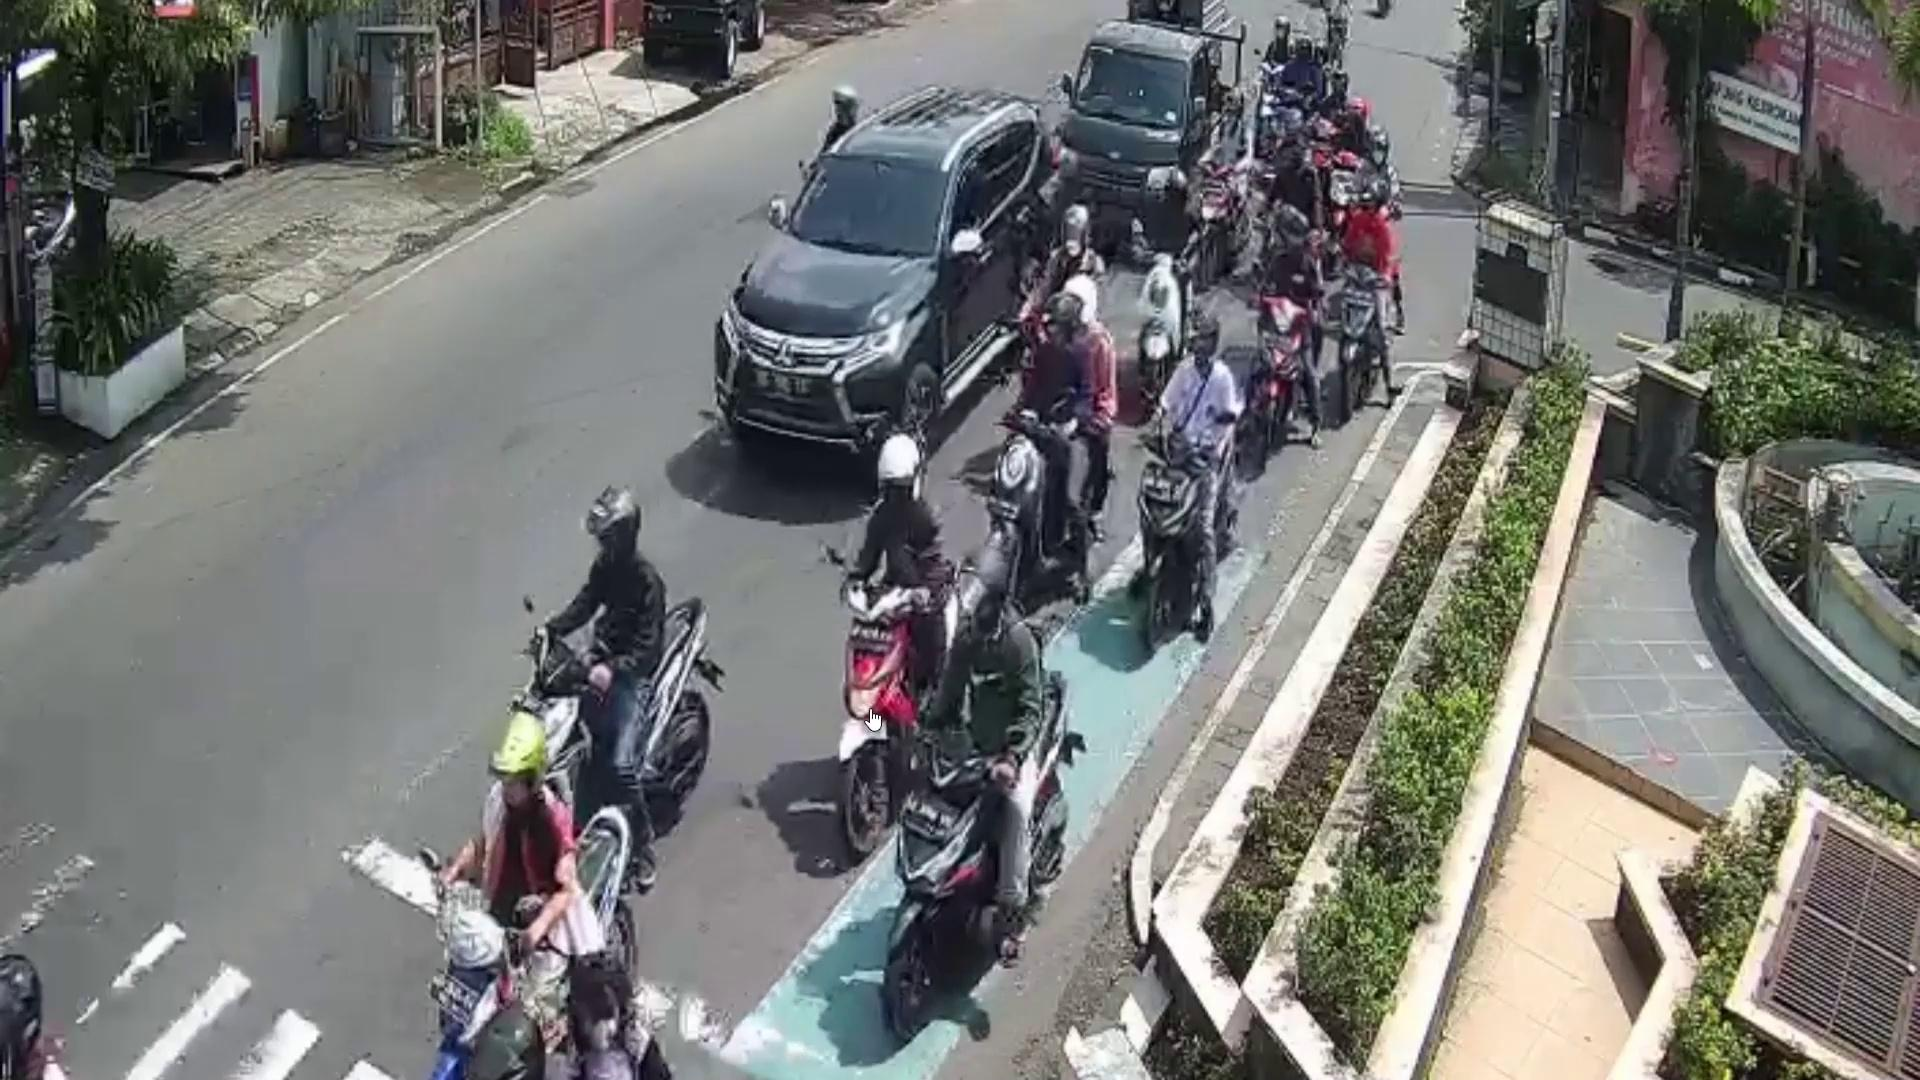car: (713, 87, 1058, 473), (1063, 18, 1245, 235)
motorbike: (886, 669, 1071, 1036), (434, 802, 630, 1080), (514, 595, 712, 791), (832, 579, 909, 839), (1139, 425, 1200, 653), (990, 398, 1059, 580), (1259, 290, 1305, 467), (1335, 247, 1378, 423), (1134, 253, 1184, 390)
